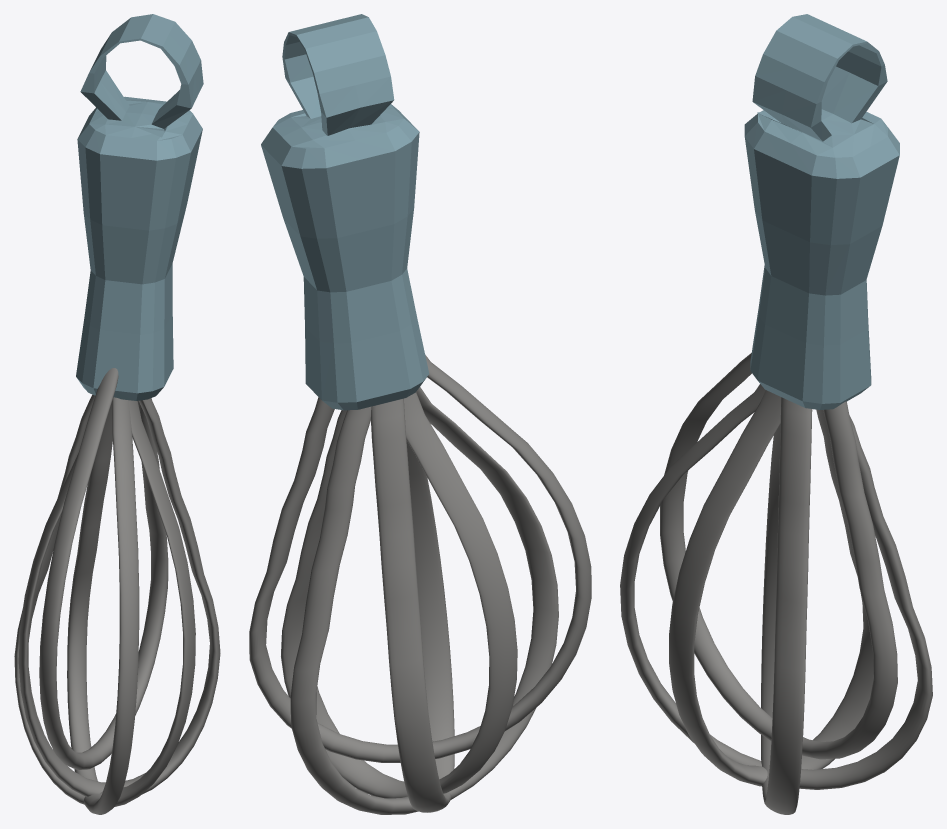
Rendered from whisk.fbx.
3 views of the same model, side by side, from view 1: azimuth 30°, elevation 25°; view 2: azimuth 150°, elevation 25°; view 3: azimuth 270°, elevation 25° (orthographic). The views are drawn at different scales.
Parts seen in each view (by area): view 1: pCube33, pCylinder14, pCylinder15, pCylinder16, pCylinder12; view 2: pCube33, pCylinder12, pCylinder14, pCylinder16, pCylinder15; view 3: pCube33, pCylinder15, pCylinder16, pCylinder12, pCylinder14.
Boxes of the visible parts, x1,y1,x2,y2 form: pCube33: [76, 14, 203, 400]; pCylinder14: [67, 397, 139, 814]; pCylinder15: [39, 368, 168, 769]; pCylinder16: [18, 398, 220, 796]; pCylinder12: [14, 394, 195, 806]; pCube33: [261, 14, 429, 410]; pCylinder12: [370, 398, 454, 812]; pCylinder14: [290, 387, 558, 814]; pCylinder16: [281, 392, 517, 798]; pCylinder15: [249, 355, 591, 762]; pCube33: [744, 14, 899, 409]; pCylinder15: [660, 353, 897, 759]; pCylinder16: [761, 397, 812, 814]; pCylinder12: [669, 390, 873, 786]; pCylinder14: [620, 384, 932, 789].
Size of the model in its own units: 30.46 by 92.61 by 32.92.
